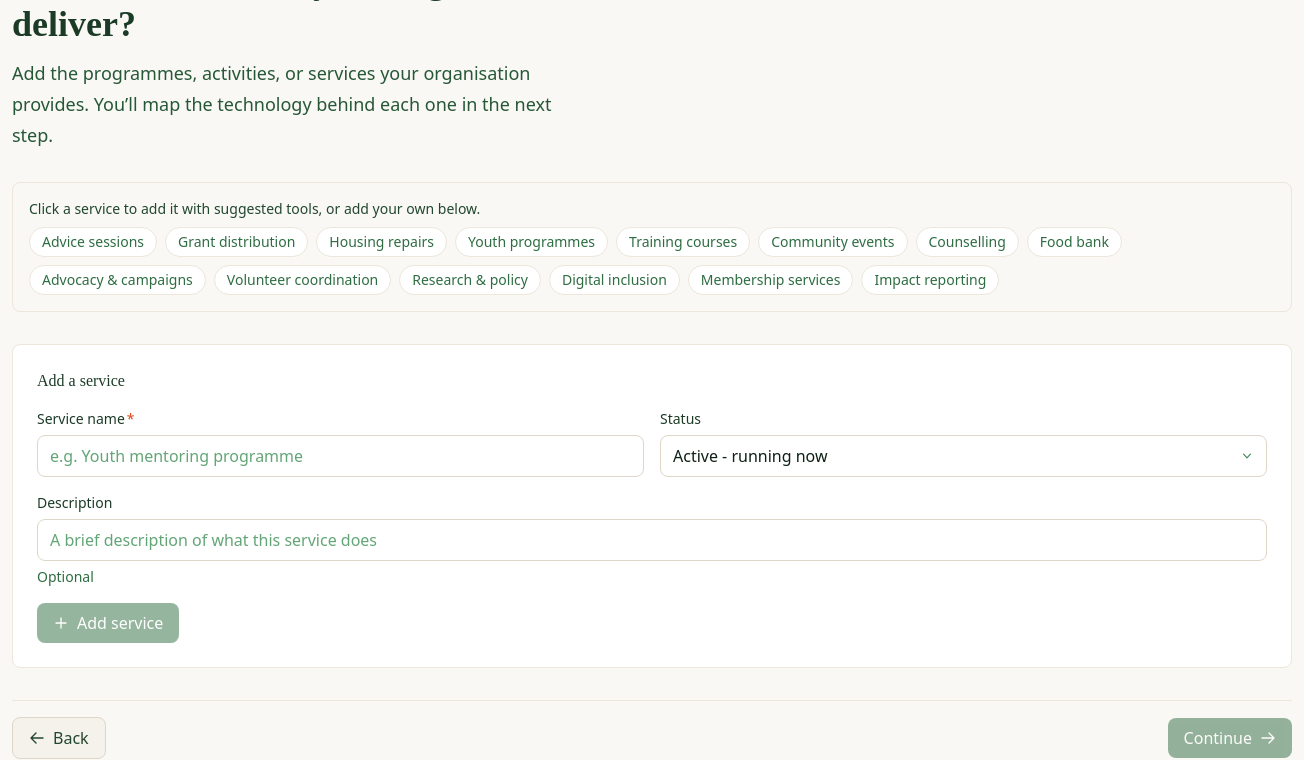
Test case: ServiceListForm › shows a count of added services
The width and height of the screenshot is (1304, 760).
Type "Service A" into the field labelled "Service name*" at (340, 456), box 37,435 -> 644,477
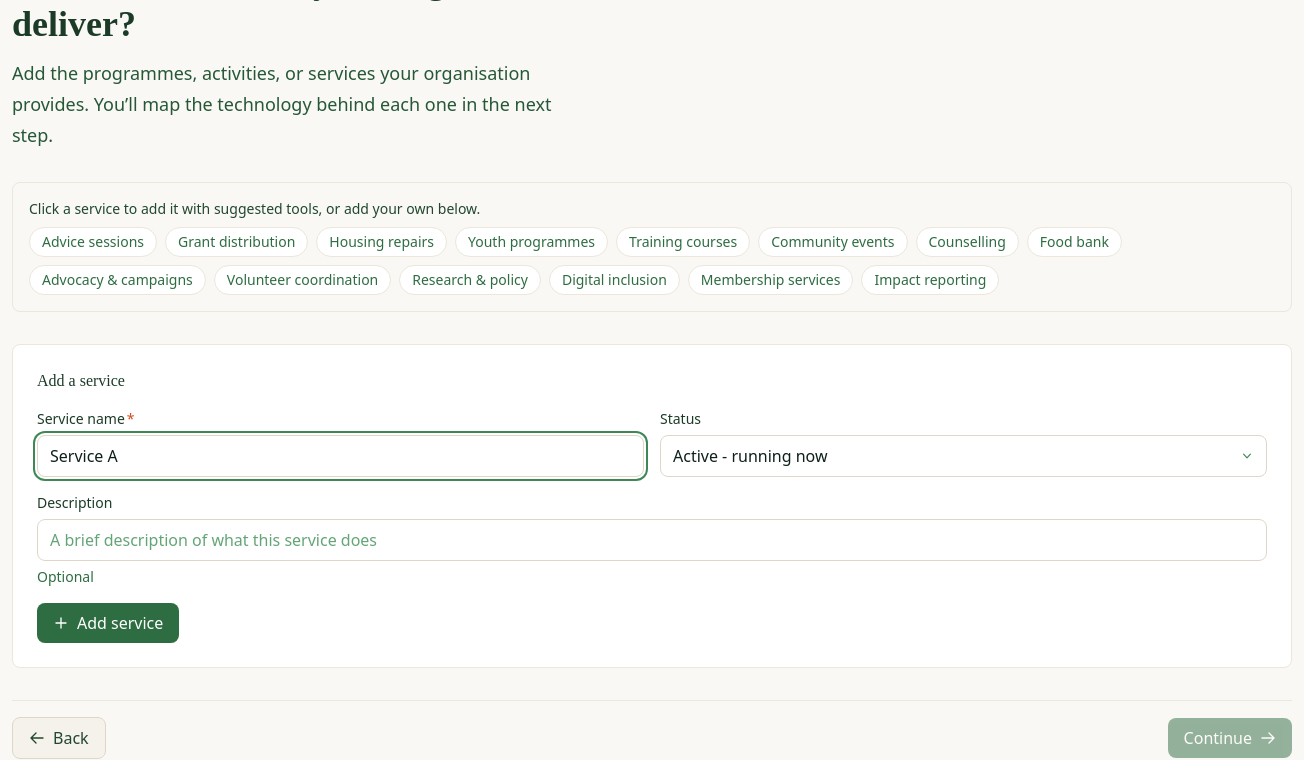
Click the button "Add service" at (108, 623), box 37,603 -> 179,643
(page scrolled)
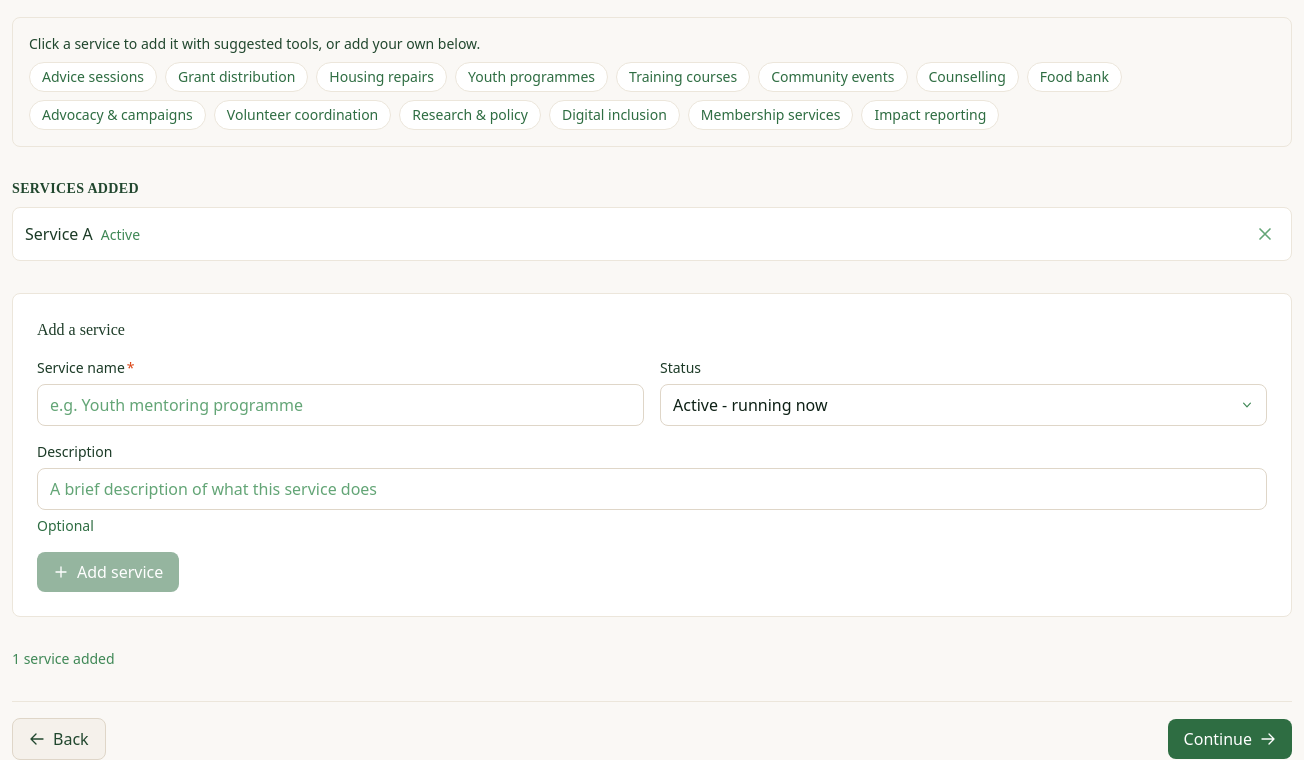
Check: the text "1 service added" is shown, box 12,649 -> 115,668
